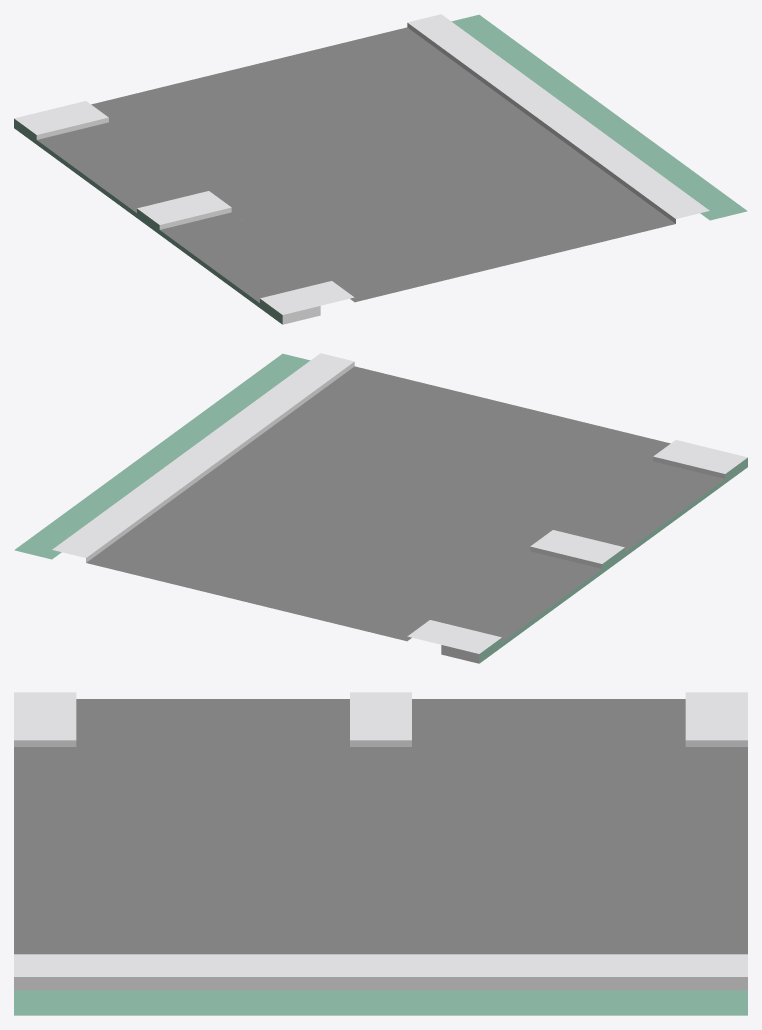
Rendered from roadPitGarage.gltf.
The picture shows the model from 3 angles, top to bottom: view 1: azimuth 30°, elevation 25°; view 2: azimuth 150°, elevation 25°; view 3: azimuth 270°, elevation 25°; orthographic projection. The views are drawn at different scales.
Parts seen in each view (by area): view 1: roadPitGarage; view 2: roadPitGarage; view 3: roadPitGarage.
Part boxes in pixels (x1=…): roadPitGarage: x1=14, y1=14, x2=747, y2=324; roadPitGarage: x1=14, y1=353, x2=747, y2=663; roadPitGarage: x1=14, y1=692, x2=747, y2=1015.
Size of the model in its own units: 10 by 0.2 by 10.
